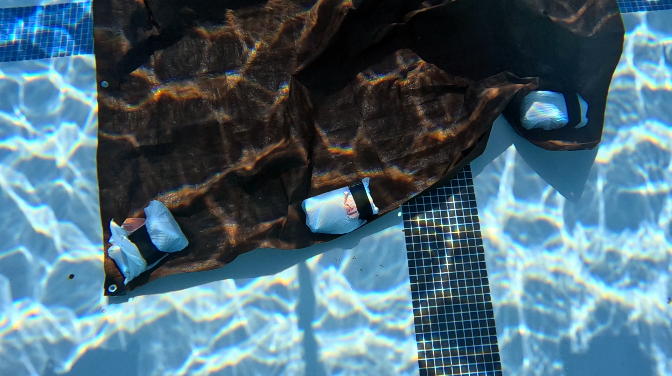sandbag: (91, 0, 624, 293)
